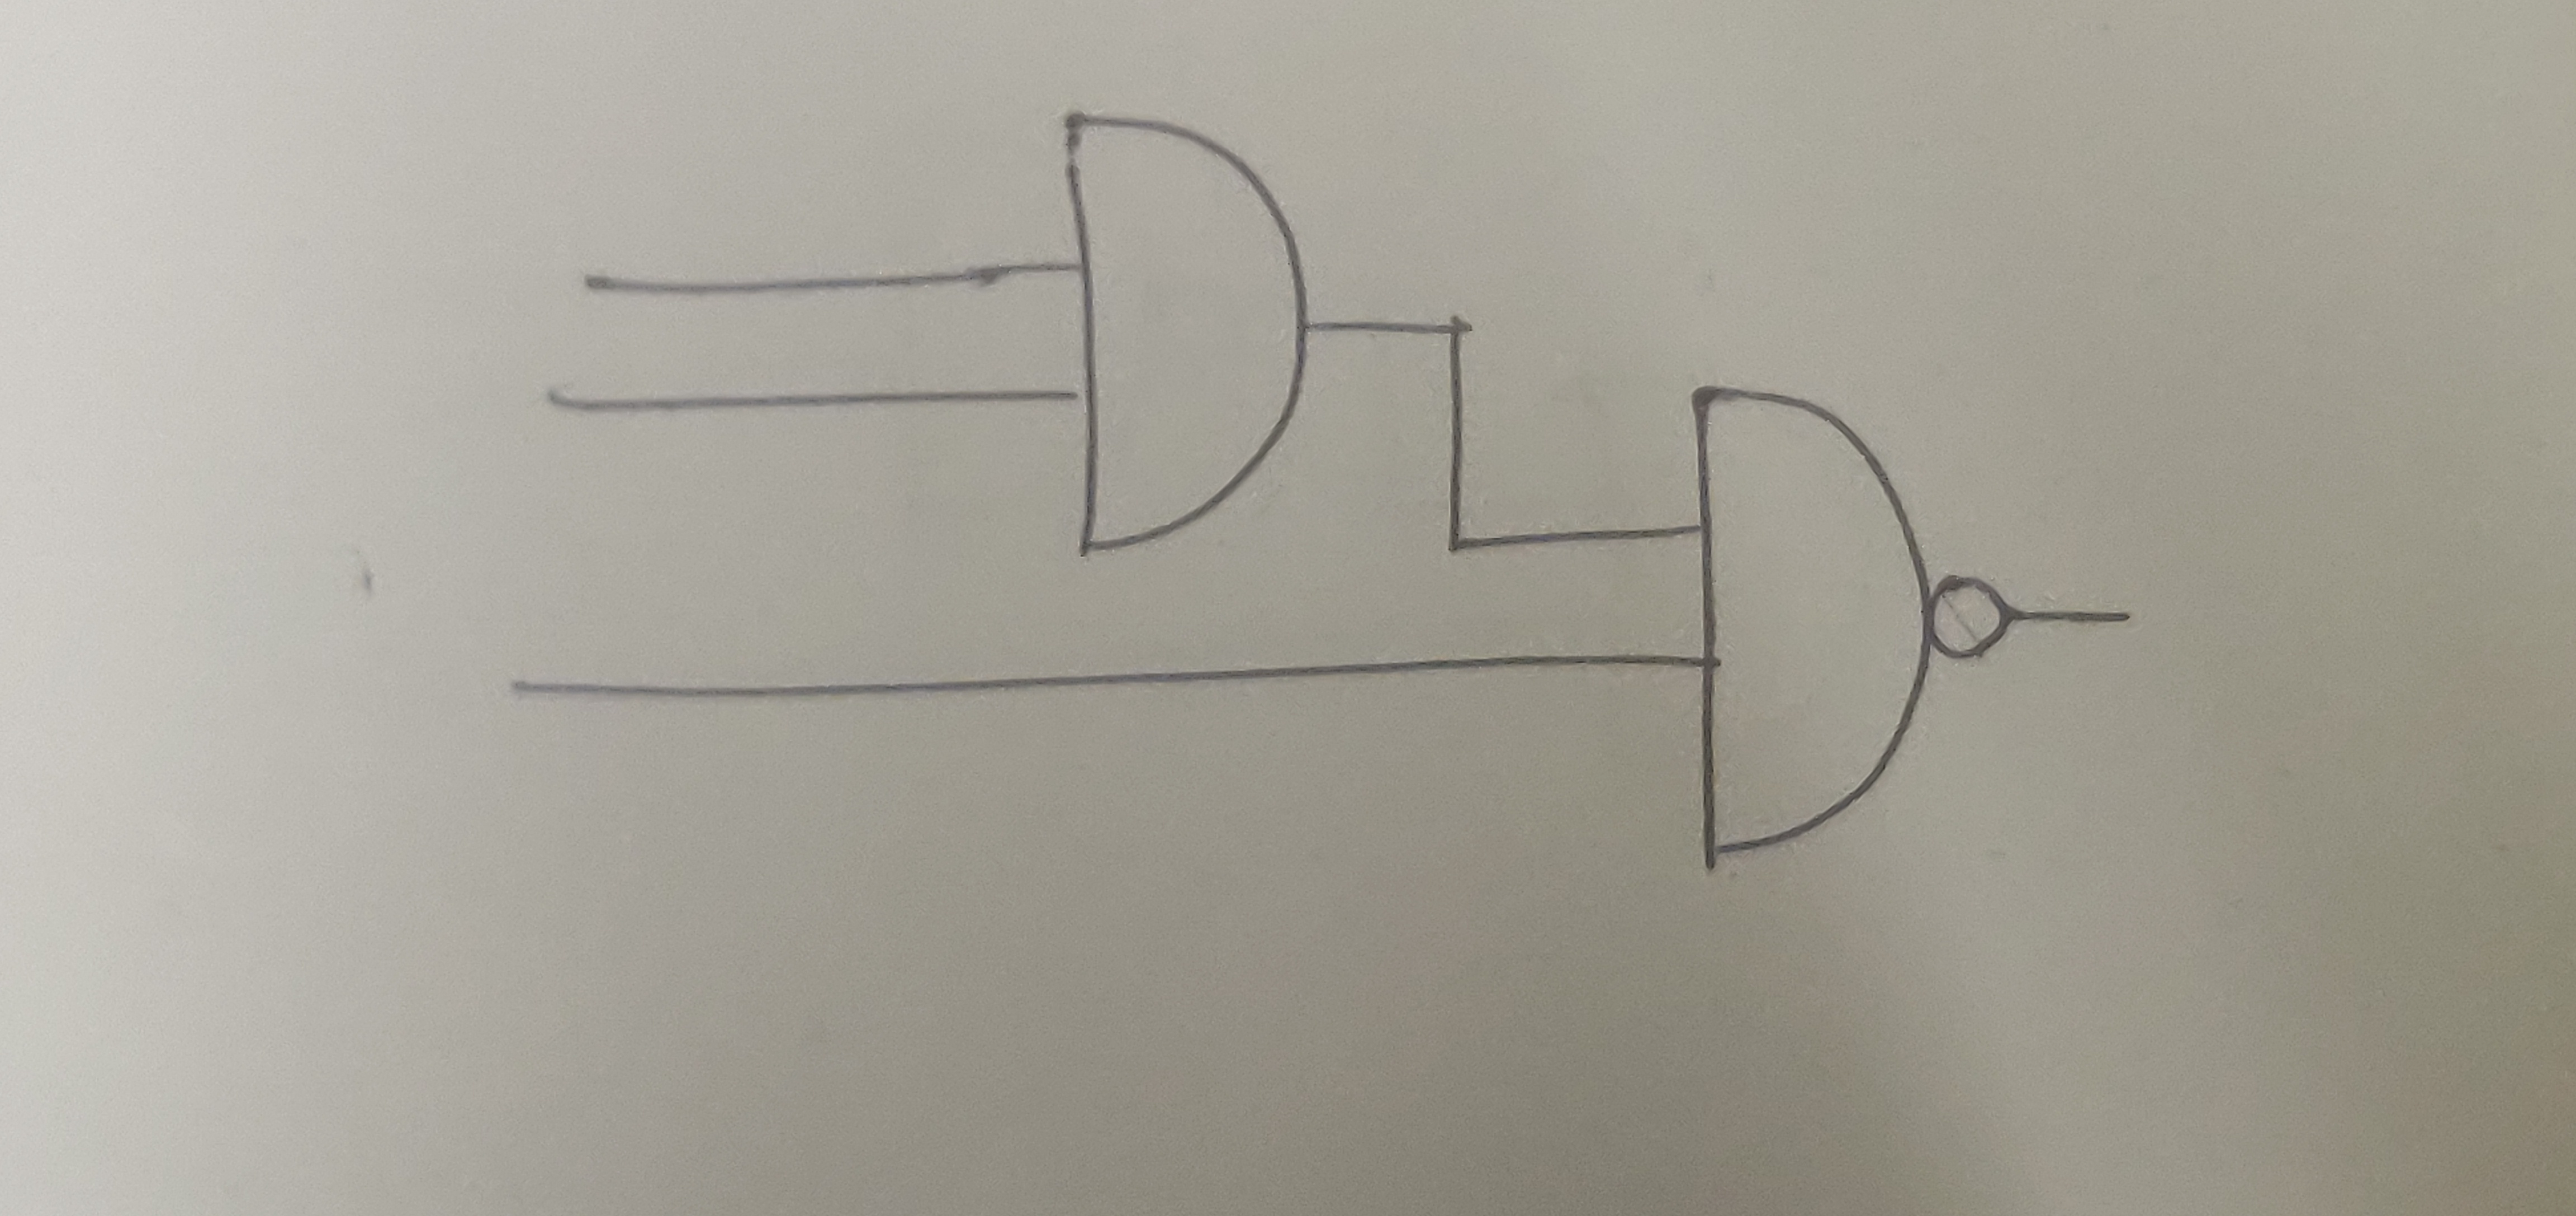and: (1692, 385, 1935, 861), (1061, 105, 1318, 555)
not: (1925, 575, 2014, 667)
